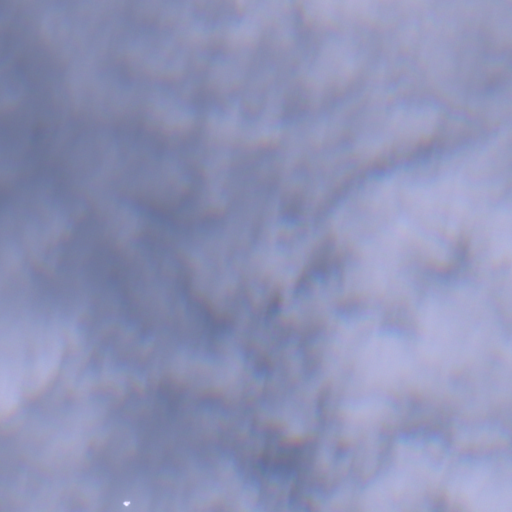Iceberg: (123, 501, 130, 506)
